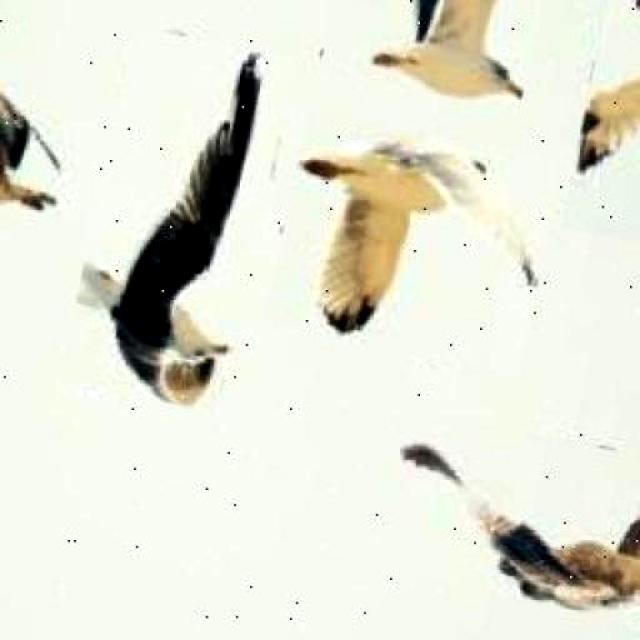airplane: (59, 25, 295, 412), (262, 105, 564, 378), (375, 408, 640, 635), (318, 0, 566, 110), (559, 0, 640, 279), (0, 62, 74, 219)
